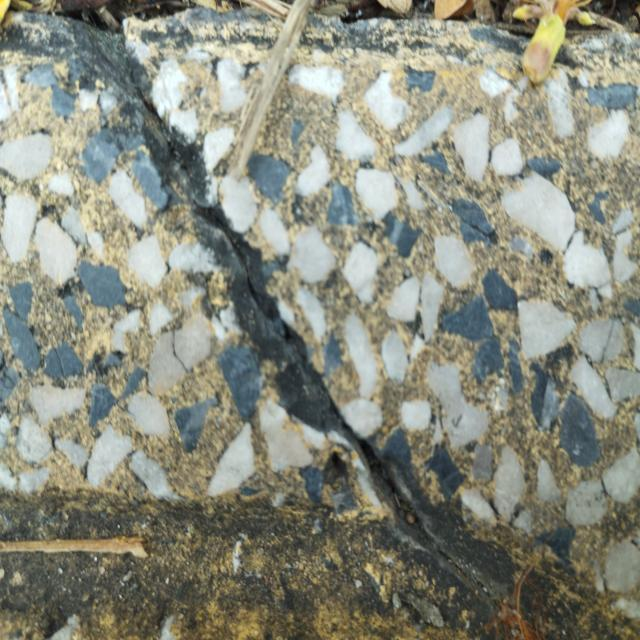diagonal crack: (126, 53, 503, 594)
